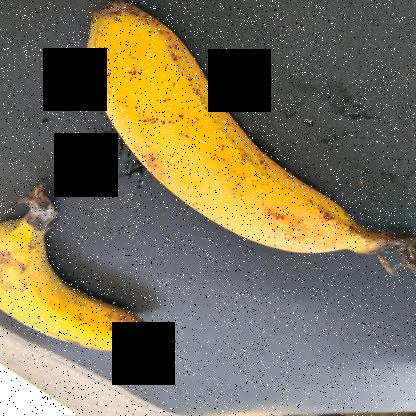ripe: (67, 1, 370, 254), (0, 207, 155, 354)
